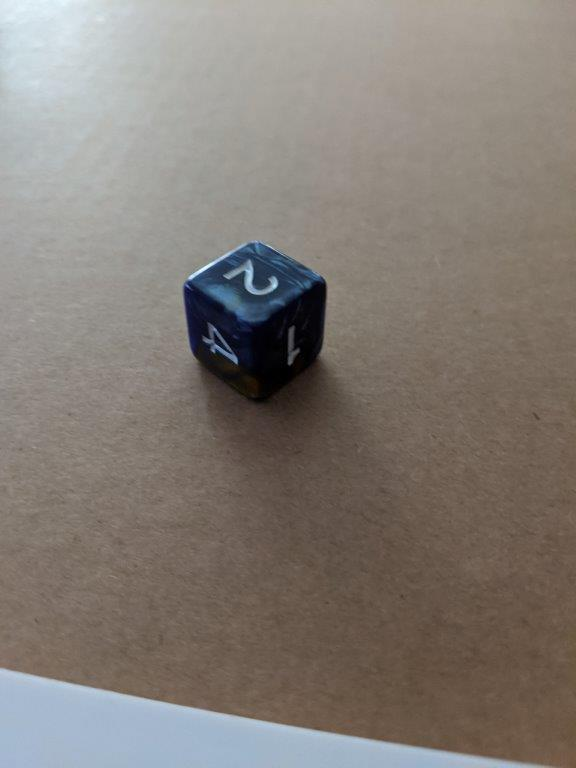d6-2: (185, 241, 330, 402)
